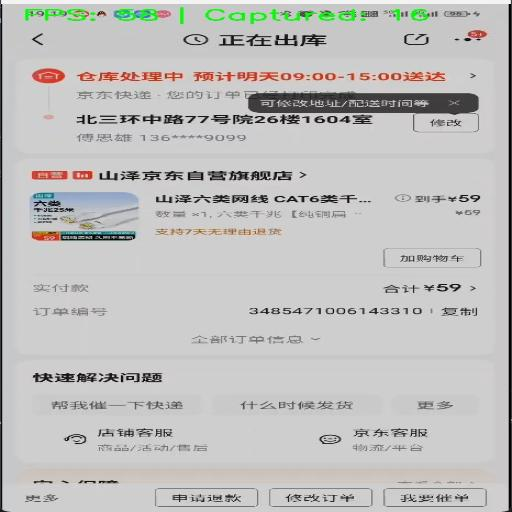butten: (169, 330, 340, 347), (442, 29, 492, 52)
close: (436, 94, 475, 117)
